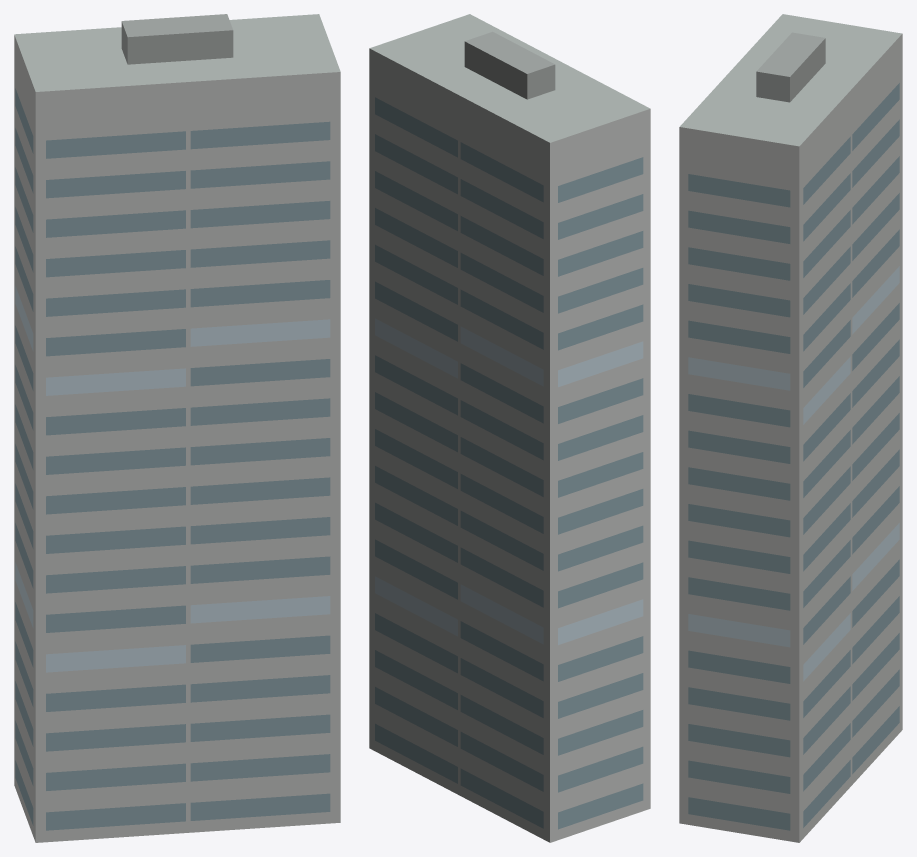
The model's file is fallback-jamsil-els-147.glb.
3 views of the same model, side by side, from view 1: azimuth 30°, elevation 25°; view 2: azimuth 150°, elevation 25°; view 3: azimuth 270°, elevation 25° (orthographic). The views are drawn at different scales.
Parts seen in each view (by area): view 1: fallback-jamsil-els-147; view 2: fallback-jamsil-els-147; view 3: fallback-jamsil-els-147.
Boxes of the visible parts, x1,y1,x2,y2 form: fallback-jamsil-els-147: [14, 14, 340, 842]; fallback-jamsil-els-147: [369, 14, 650, 842]; fallback-jamsil-els-147: [679, 14, 902, 842].
Bounding box in the file's own units: 26.75 × 68 × 19.04.
